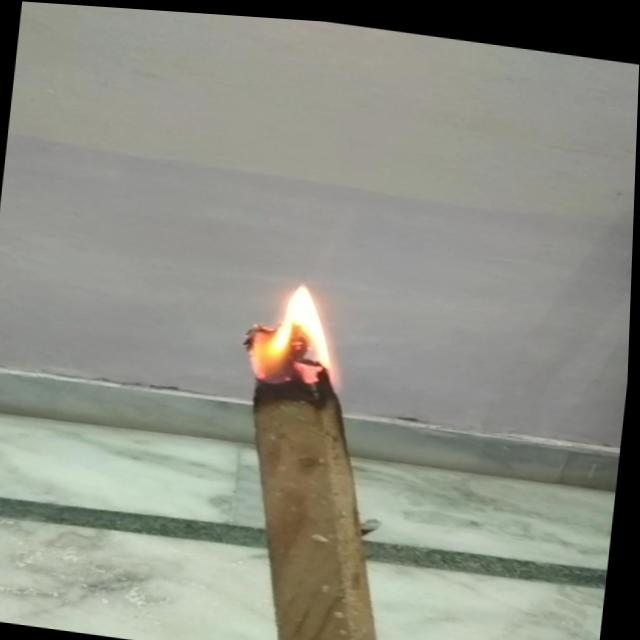fire: (238, 268, 372, 398)
